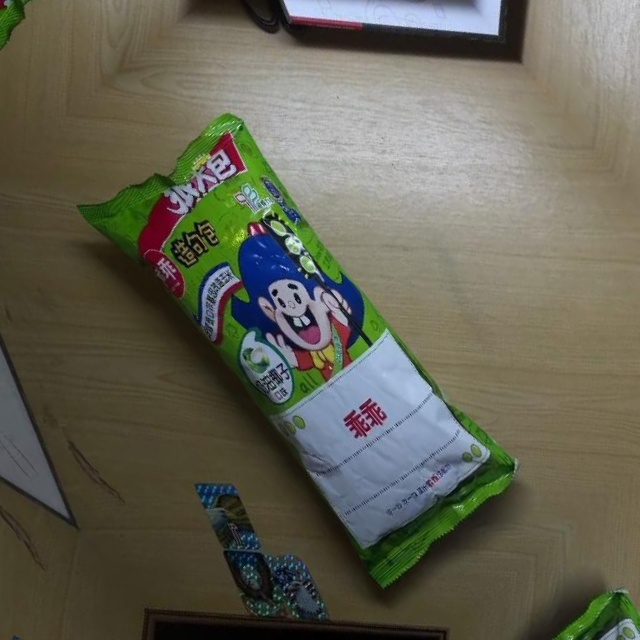Good-Luck: (67, 91, 525, 588)
